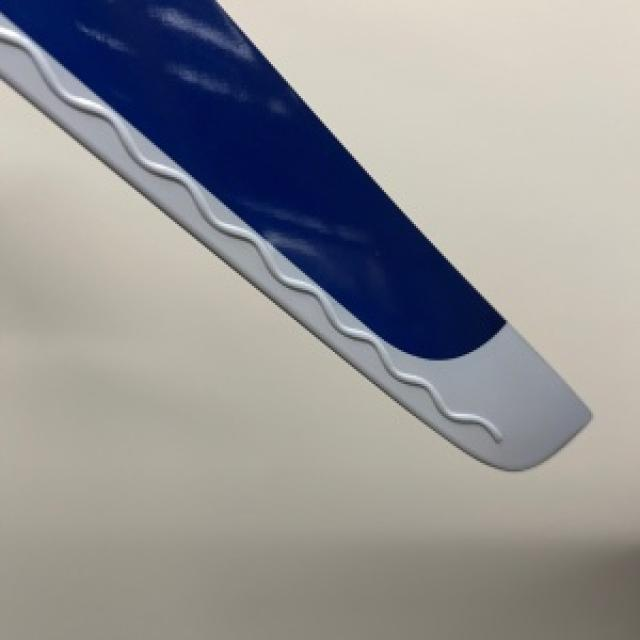healthy: (0, 0, 589, 467)
